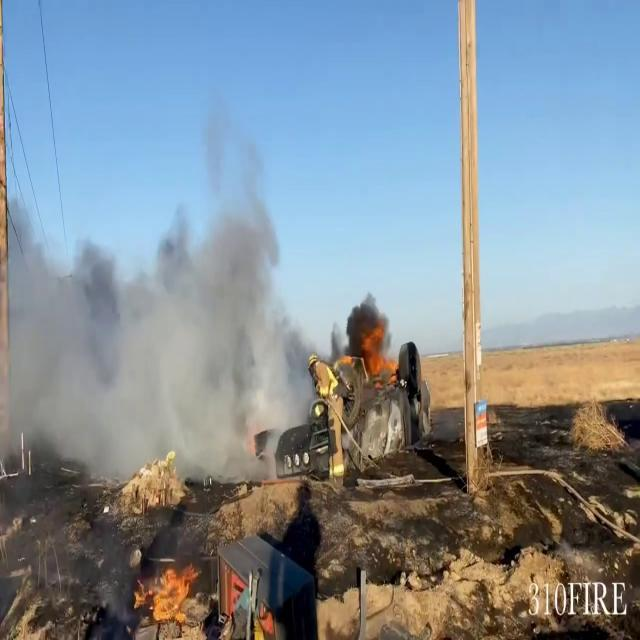Fire: (130, 562, 202, 630), (344, 319, 401, 385)
Smoke: (2, 165, 316, 482)
